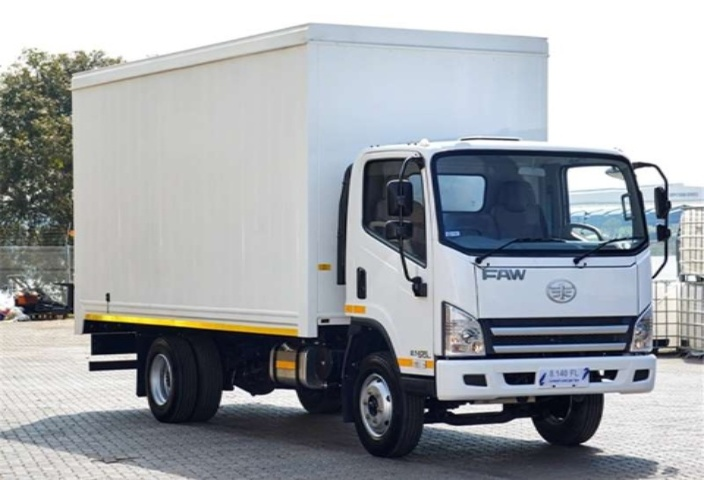truck: (68, 33, 691, 455)
